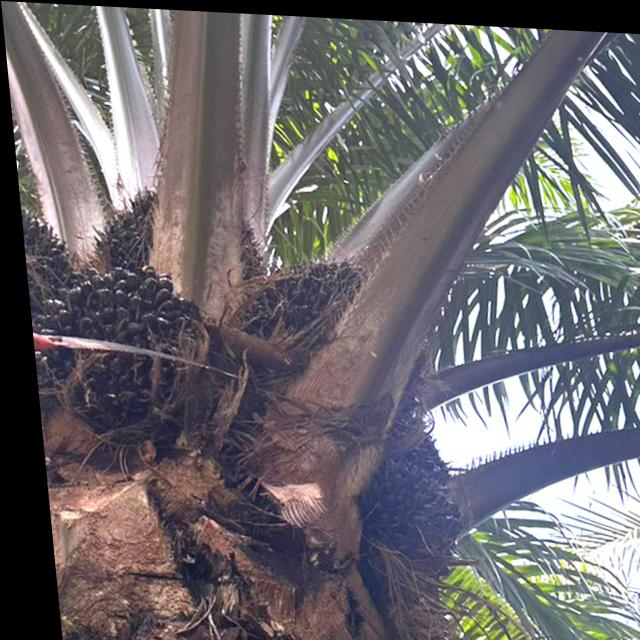unripe: (23, 264, 239, 449), (237, 247, 366, 374)
